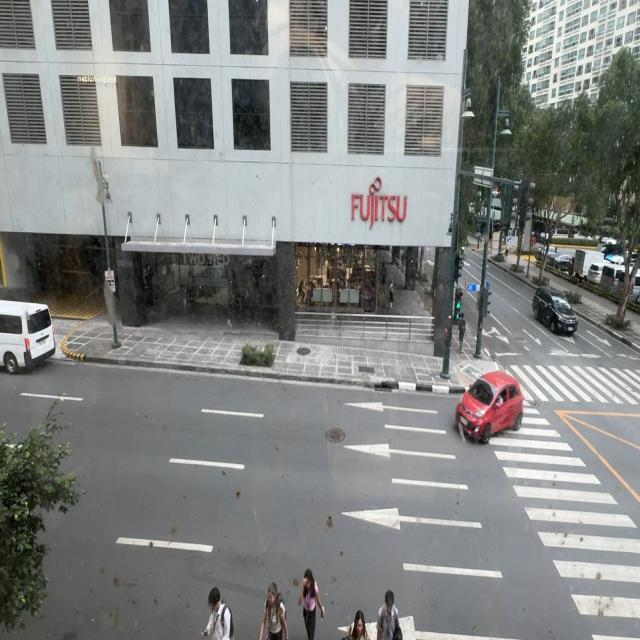jaywalking: (200, 577, 240, 640), (376, 578, 410, 640), (260, 570, 286, 640), (299, 573, 325, 640), (343, 608, 369, 640)
